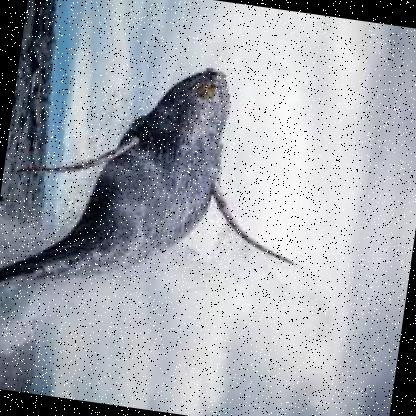blue_whale: (0, 25, 344, 363)
